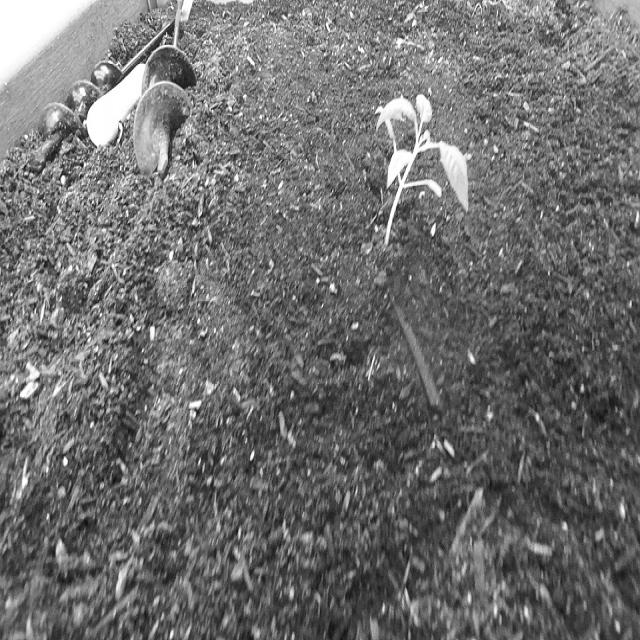Healthy: (367, 80, 479, 266)
